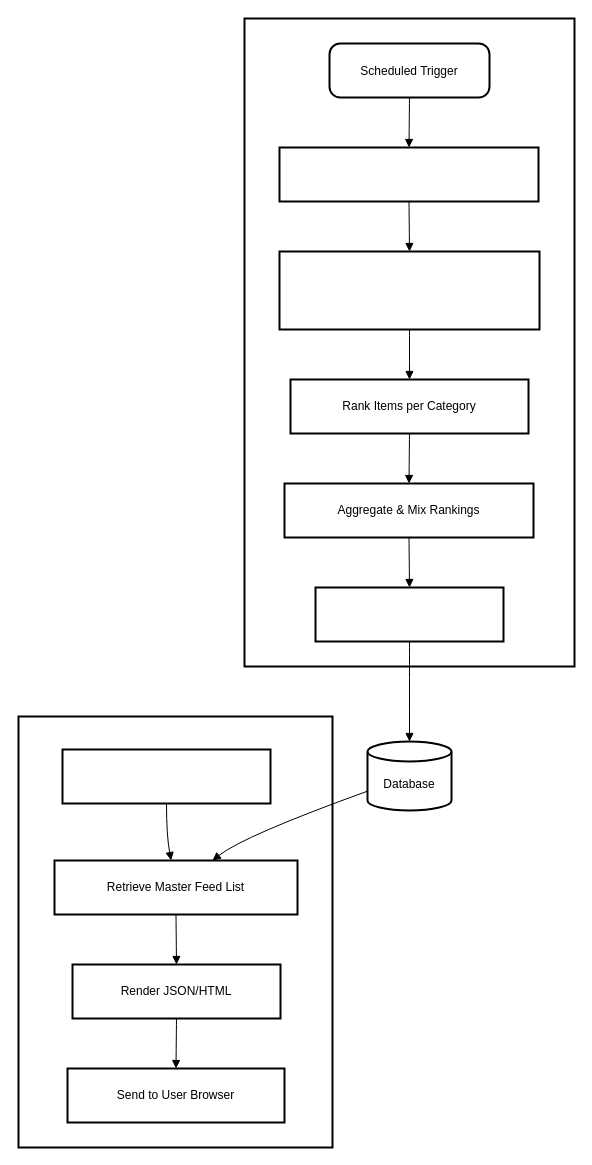
Some shapes in this 592 by 1165 pixel diagram are drawn without their labels. Here are the shapes that lost their labels. From the top down, the centre of each, then its label:
(x=408, y=174): Fetch Data from GitHub API
(x=409, y=290): Calculate Metrics: Explore Score, Growth
(x=409, y=614): Store in Database
(x=166, y=776): User Requests Page
